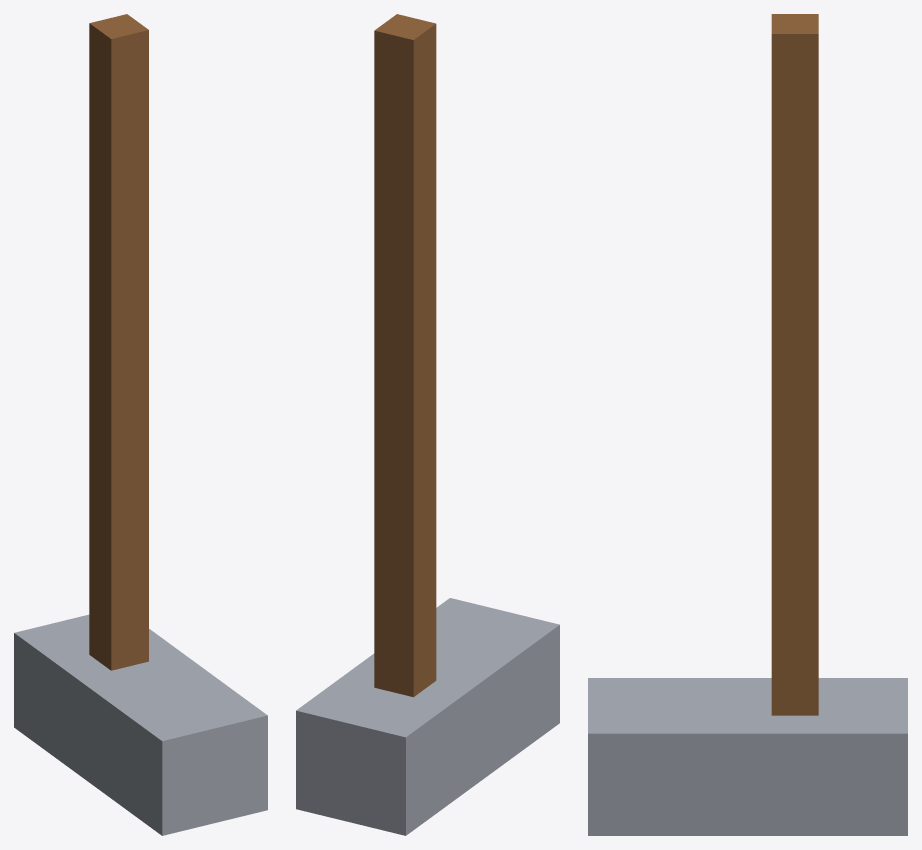
The model's file is hammer.glb.
3 views of the same model, side by side, from view 1: azimuth 30°, elevation 25°; view 2: azimuth 150°, elevation 25°; view 3: azimuth 270°, elevation 25° (orthographic). The views are drawn at different scales.
Parts seen in each view (by area): view 1: hammer; view 2: hammer; view 3: hammer.
Boxes of the visible parts, left/top/right/bottom form: hammer: left=14, top=14, right=267, bottom=835; hammer: left=296, top=14, right=559, bottom=835; hammer: left=588, top=14, right=907, bottom=835.
Size of the model in its own units: 0.07 by 0.46 by 0.17.
1 material, 1 textured.
